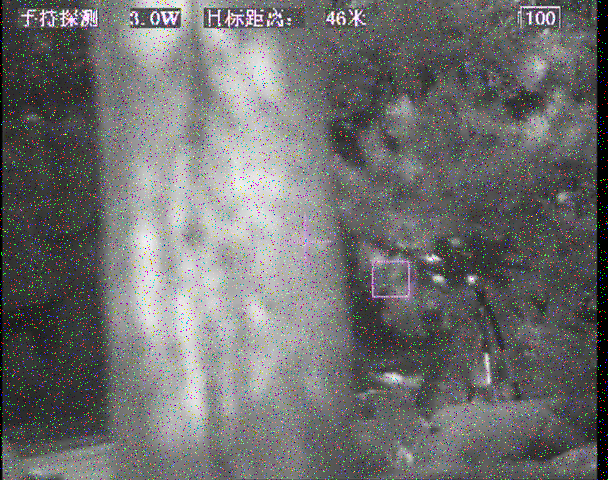my: (465, 273, 479, 285)
